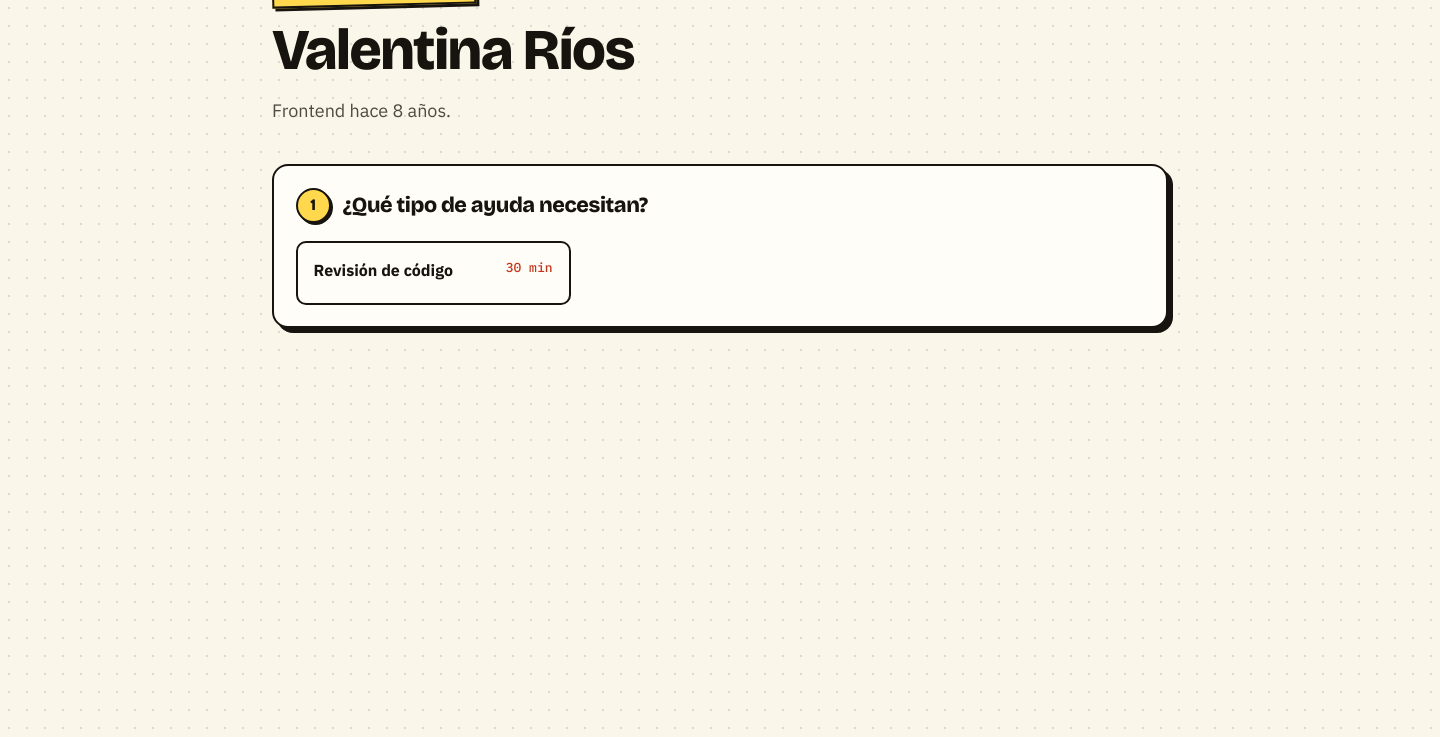
Test case: ReservaPage › muestra días y horarios libres y pide los datos al elegir un horario
This screenshot has width=1440, height=737.
Step 1. Click the radio button labelled "Revisión de código 30 min" → [433, 273], box [296,241,570,305]
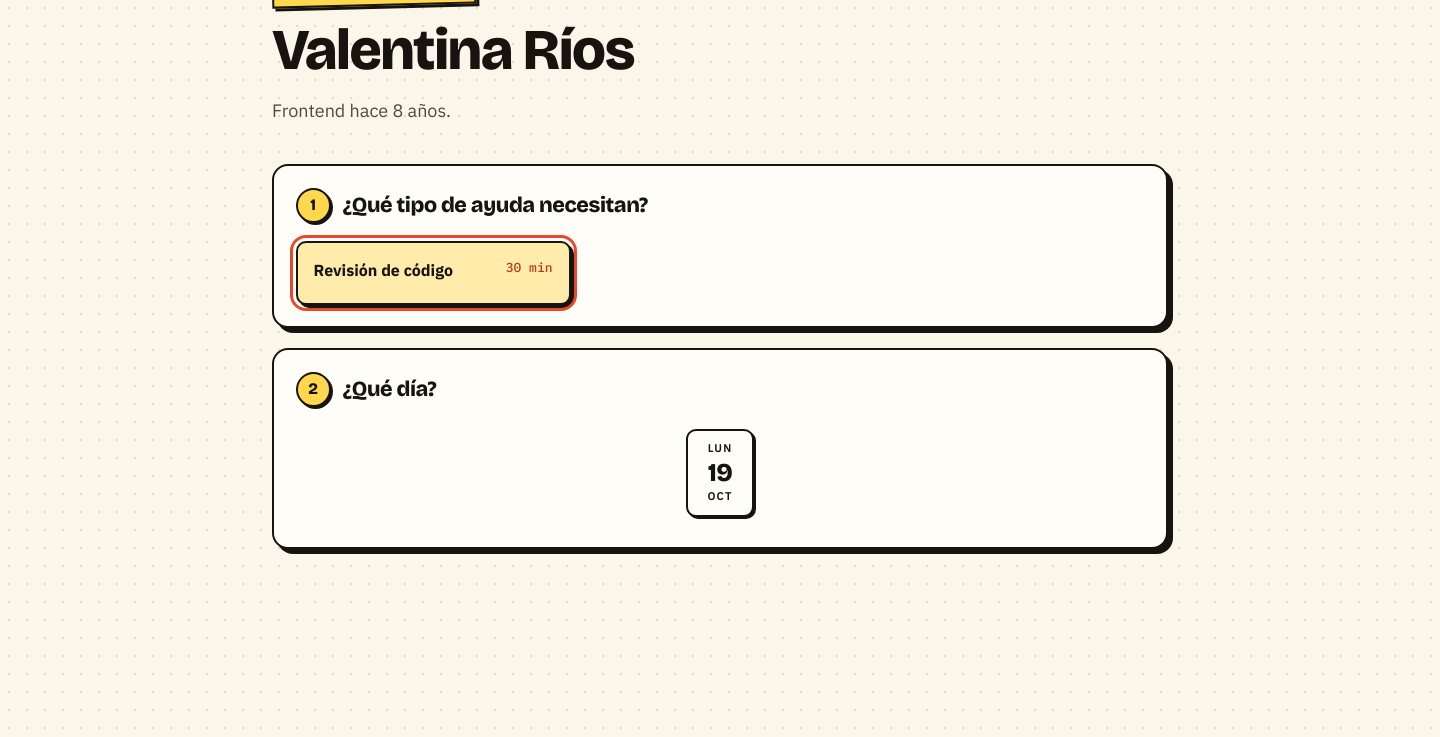
Step 2. Click the button with aria-label "19 de octubre" → [720, 473], box [686,429,754,517]
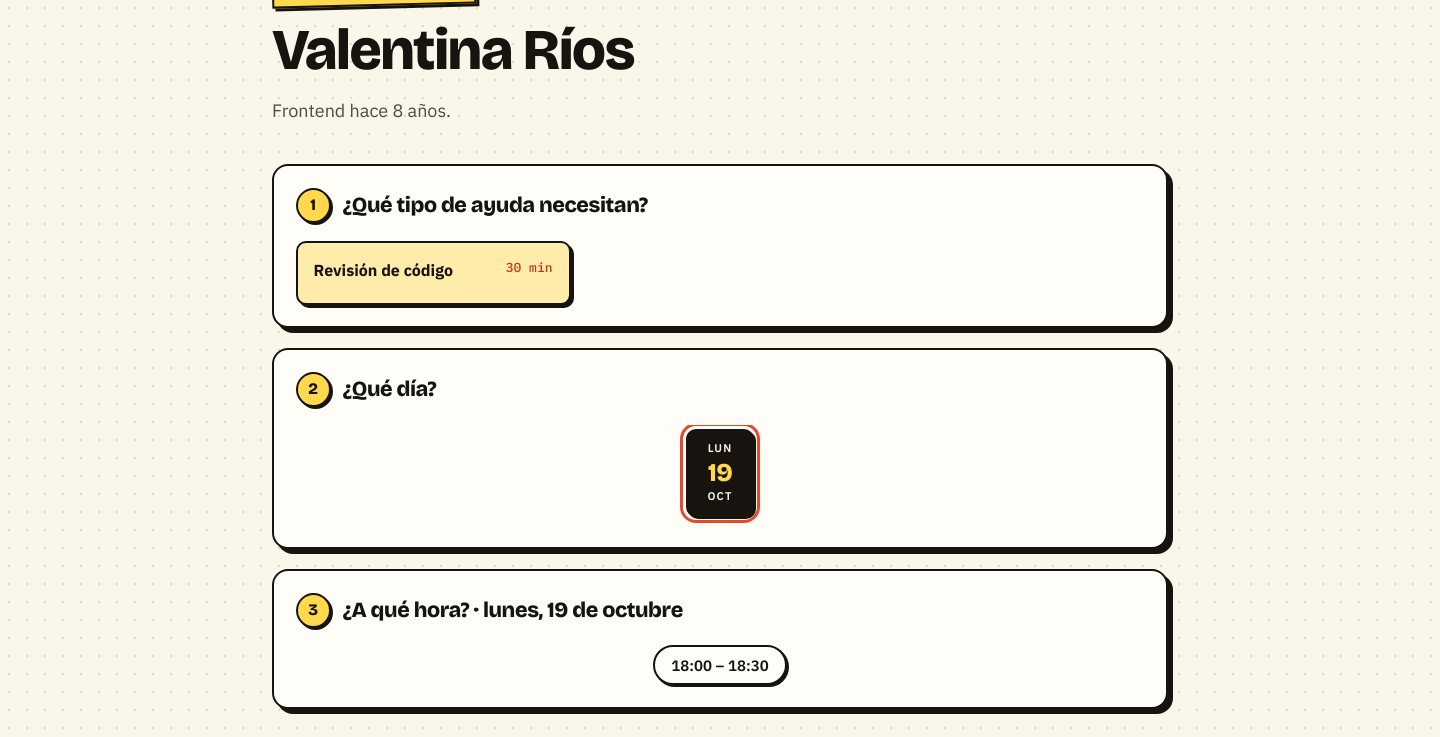
Step 3. Click the button "18:00 – 18:30" → [720, 665], box [653,645,787,685]
(page scrolled)
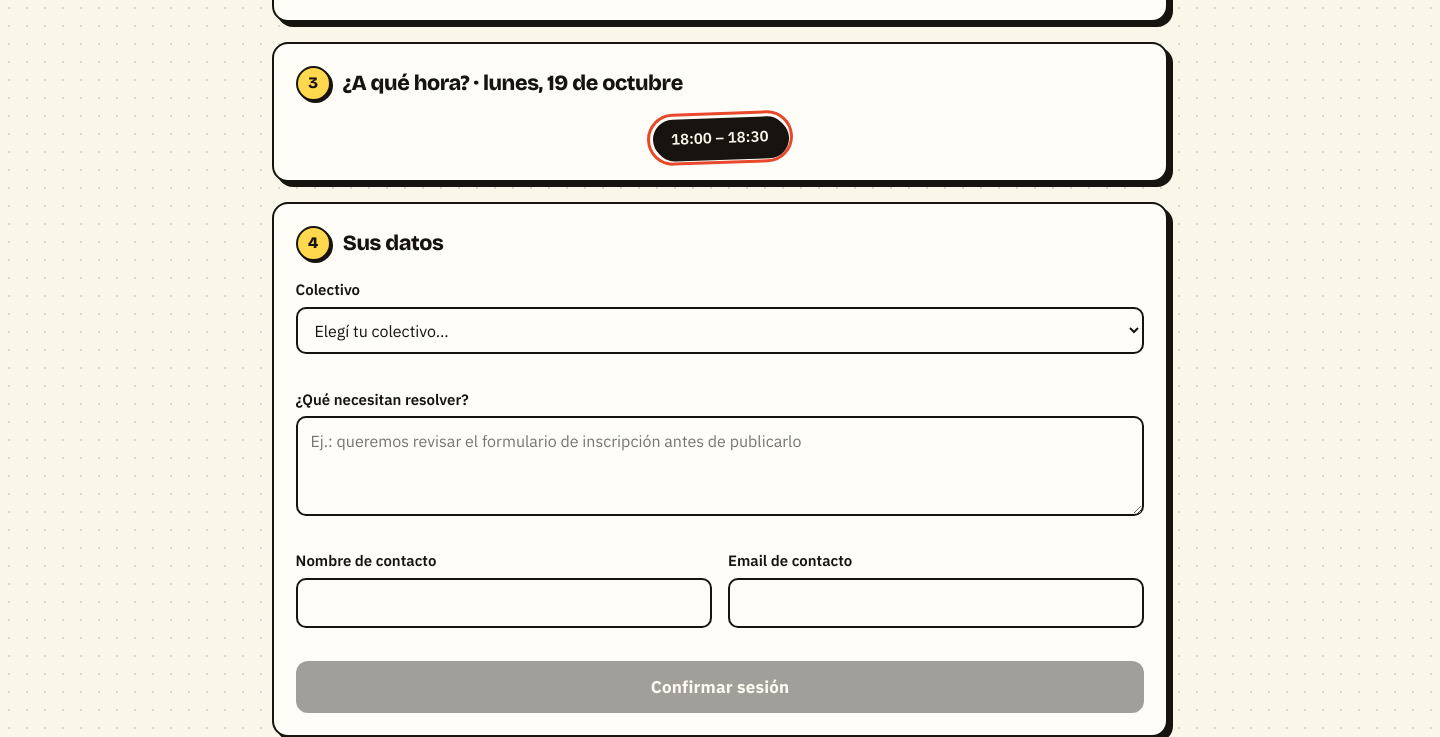
Check: the button "Confirmar sesión" is shown, box [296,661,1144,713]
